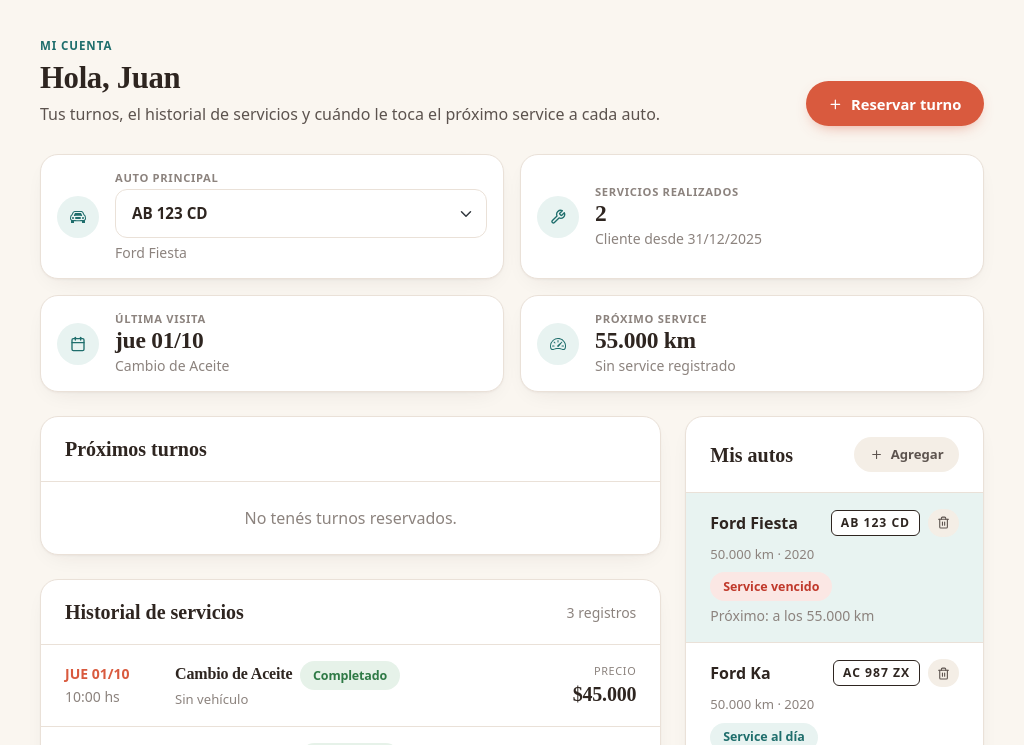
Test: Mi cuenta: autos del cliente (Dado / Cuando / Entonces) › Dado dos autos, Cuando elige otro como auto principal, Entonces las estadísticas pasan a ser de ese auto
Check: the text "2" is shown, box [595, 200, 606, 226]
Select "AC 987 ZX" in the dropdown labelled "AUTO PRINCIPAL". click: (301, 214)
box: [115, 189, 487, 238]
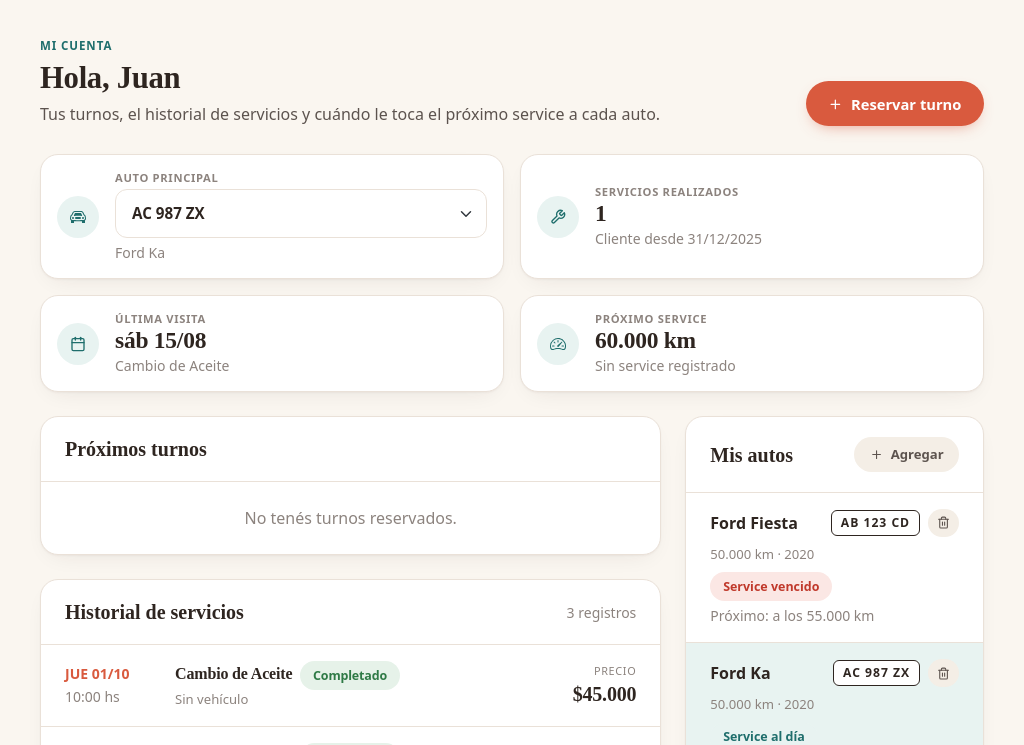
Check: the text "1" is shown, box [595, 200, 606, 226]
Check: the text "60.000 km" is shown, box [595, 327, 696, 353]
